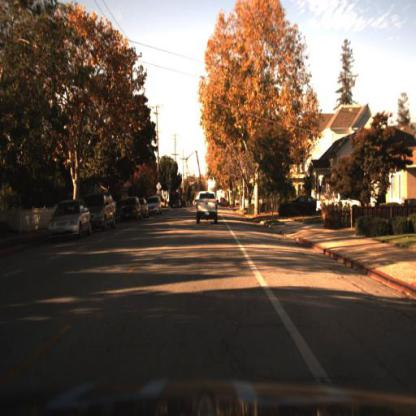car: (43, 198, 96, 248), (46, 198, 93, 236), (84, 190, 118, 237), (315, 193, 364, 221), (278, 189, 316, 219), (92, 194, 116, 234), (196, 191, 219, 224), (118, 196, 143, 225), (121, 198, 140, 222), (149, 196, 164, 217), (140, 198, 150, 219)
